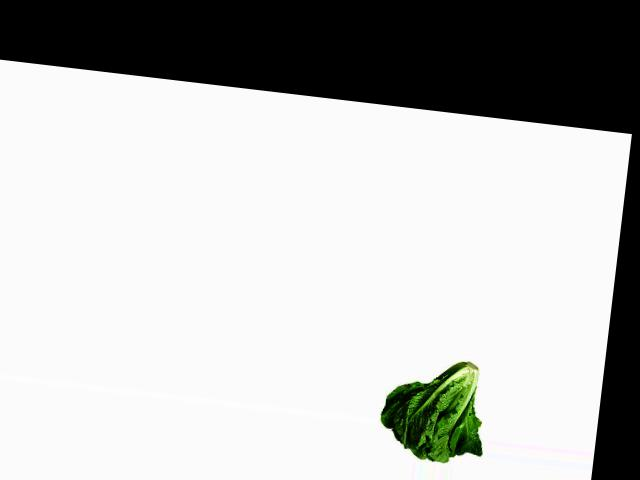lettuce: (374, 347, 491, 467)
